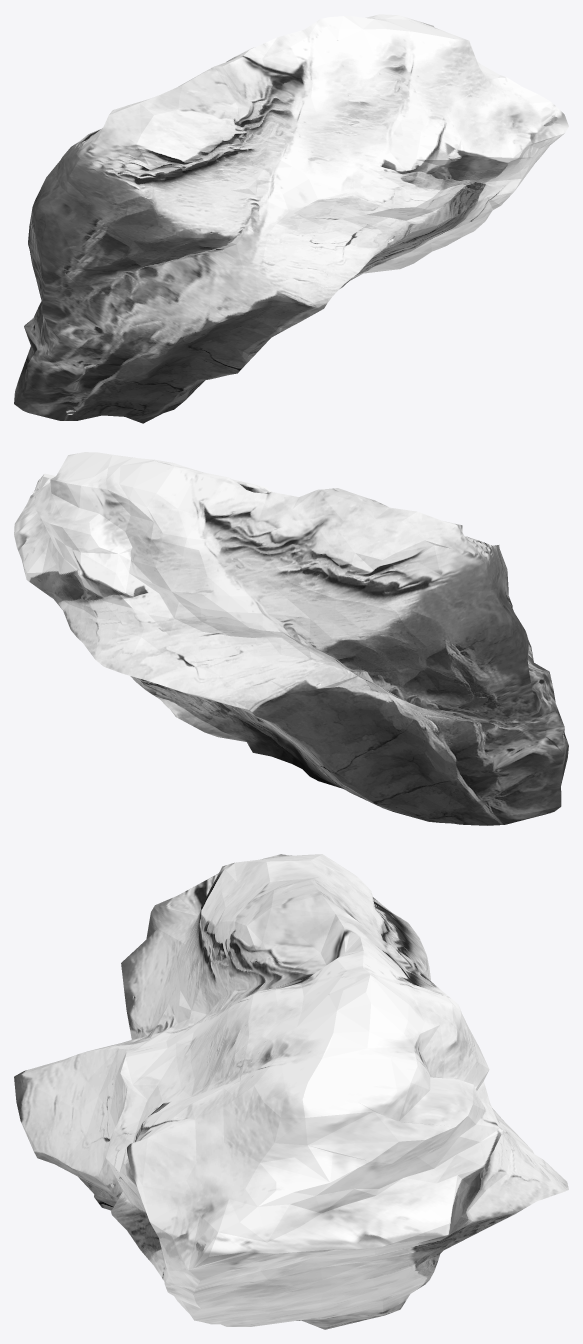
The picture shows the model from 3 angles, top to bottom: view 1: azimuth 30°, elevation 25°; view 2: azimuth 150°, elevation 25°; view 3: azimuth 270°, elevation 25°; orthographic projection. The views are drawn at different scales.
Parts seen in each view (by area): view 1: StoneA; view 2: StoneA; view 3: StoneA.
Part boxes in pixels (x1,y1,x2,y2): StoneA: (14,14,568,423); StoneA: (14,452,568,825); StoneA: (14,854,568,1329).
Size of the model in its own units: 1.21 by 0.6884 by 0.752.
1 material, 1 textured.
